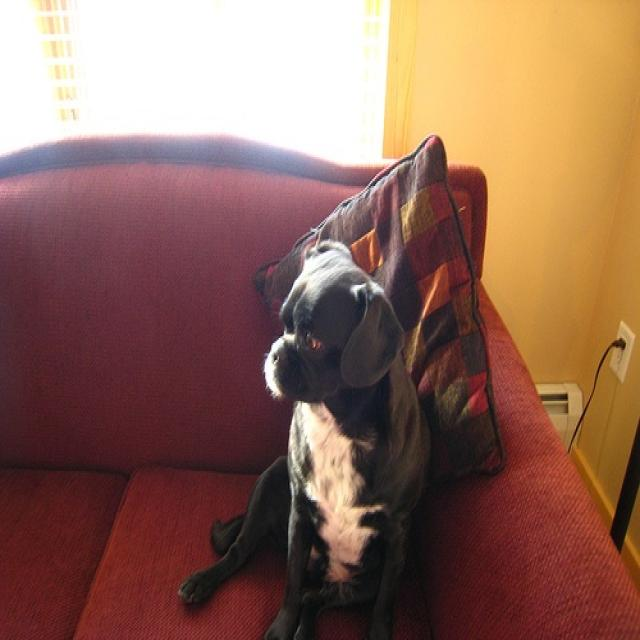dog: (179, 236, 434, 638)
sofa: (1, 132, 639, 638)
